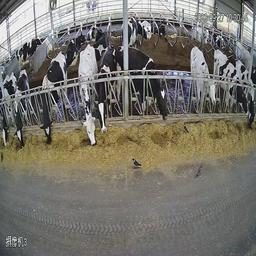cow: (117, 47, 168, 120), (40, 52, 65, 145), (215, 49, 244, 128), (79, 46, 99, 146), (189, 44, 214, 107), (98, 46, 118, 123), (14, 69, 29, 146), (1, 70, 14, 147), (14, 35, 43, 65), (64, 32, 87, 65), (229, 35, 251, 65), (245, 64, 254, 128), (128, 17, 147, 46), (94, 28, 108, 57), (152, 14, 165, 38), (213, 29, 227, 49), (197, 24, 209, 45), (86, 23, 95, 42), (145, 17, 152, 37)
